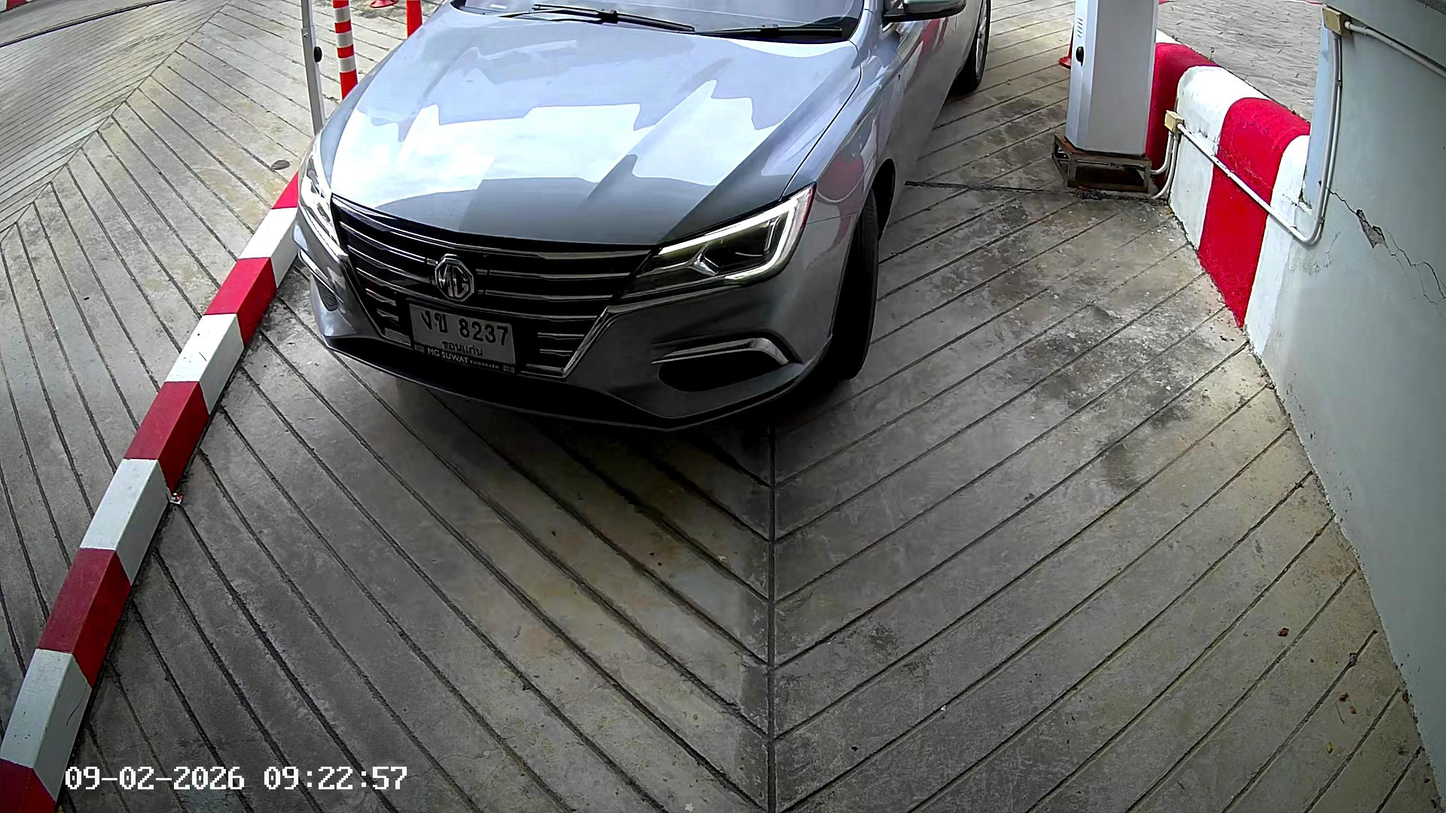car: (296, 4, 994, 438)
license-plate: (404, 291, 519, 379)
